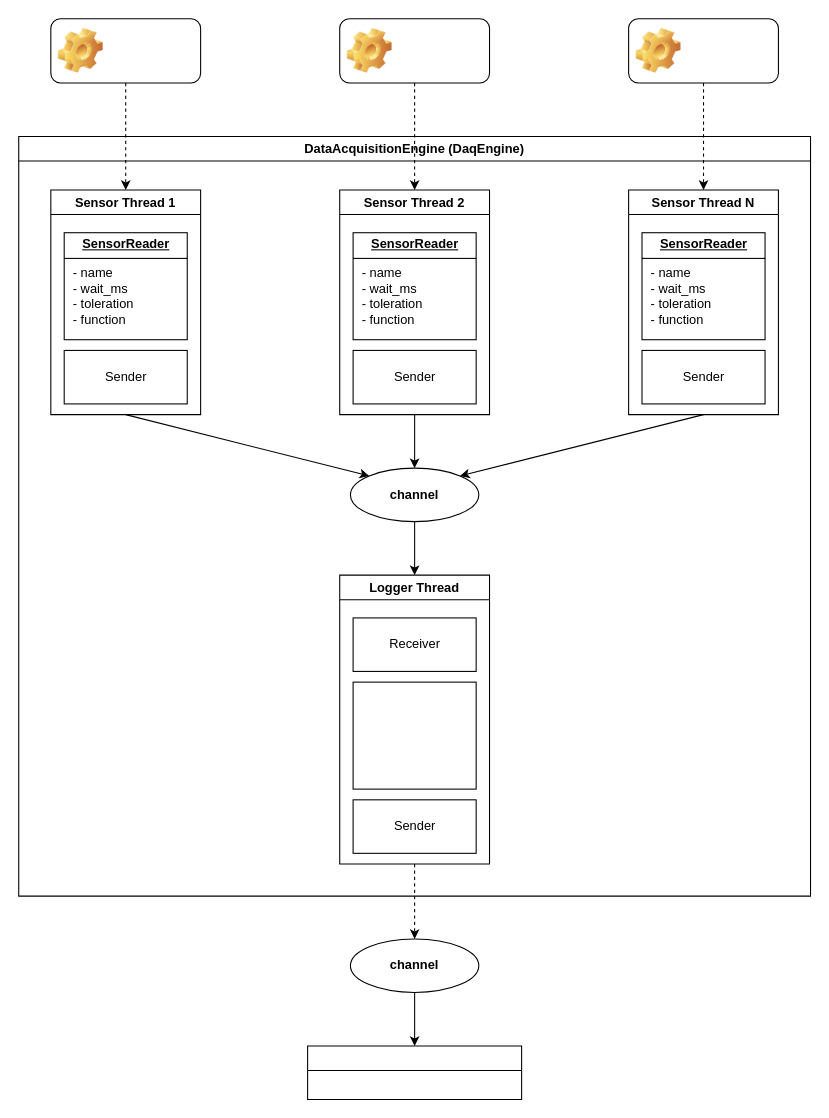
Image size: 829x1118. Some labels were removed from this diagram. Here are the shapes that lost their labels. From the top down, the centre of each, then its label:
At pixel 125 50: "Sensor 1".
At pixel 414 50: "Sensor 2".
At pixel 703 50: "Sensor N".
At pixel 414 735: "Logger - last_data_entry - highest_deviations - storage_channel - wait_ms".
At pixel 414 1072: "storage".
